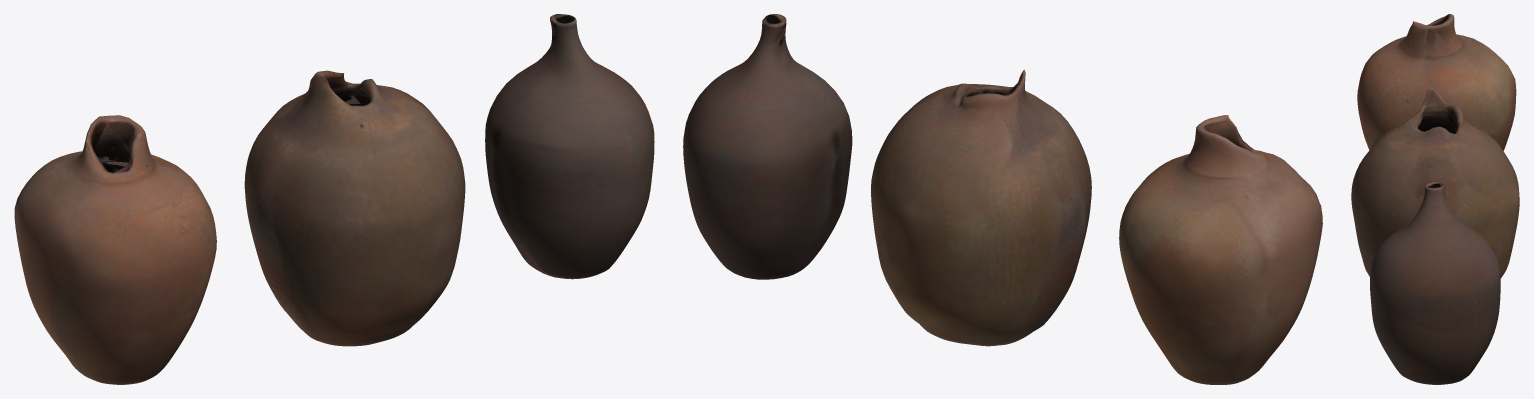
File: clay_pots.glb
3 views of the same model, side by side, from view 1: azimuth 30°, elevation 25°; view 2: azimuth 150°, elevation 25°; view 3: azimuth 270°, elevation 25° (orthographic). The views are drawn at different scales.
Parts seen in each view (by area): view 1: input; view 2: input; view 3: input.
Part boxes in pixels (bbox=[...]): input: bbox=[14, 14, 654, 384]; input: bbox=[683, 14, 1322, 384]; input: bbox=[1351, 14, 1519, 384].
Bounding box in the file's own units: 1.99 × 0.8229 × 0.6315.
Materials: 1 (1 with a texture image).
